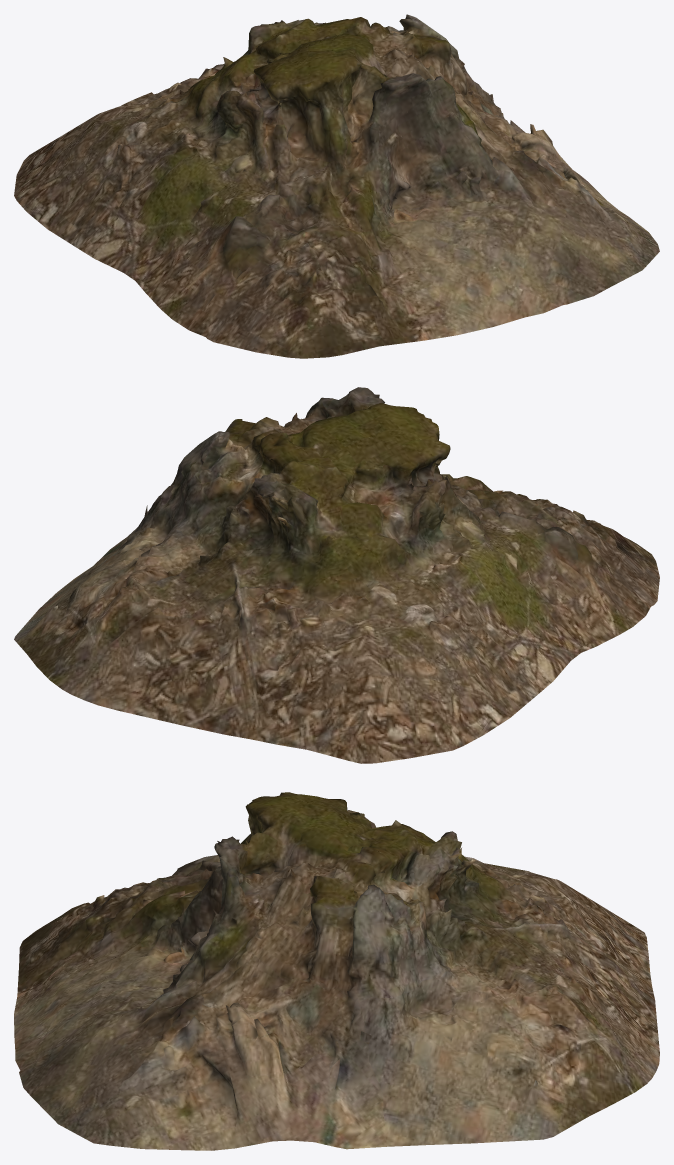
File: tree_stump_01.glb
The picture shows the model from 3 angles, top to bottom: view 1: azimuth 30°, elevation 25°; view 2: azimuth 150°, elevation 25°; view 3: azimuth 270°, elevation 25°; orthographic projection. The views are drawn at different scales.
Parts seen in each view (by area): view 1: tree_stump_01; view 2: tree_stump_01; view 3: tree_stump_01.
Part boxes in pixels (x1,y1,x2,y2): tree_stump_01: [14, 14, 659, 358]; tree_stump_01: [14, 387, 659, 763]; tree_stump_01: [14, 792, 659, 1150].
Size of the model in its own units: 1.43 by 0.5725 by 1.59.
Materials: 1 (1 with a texture image).
